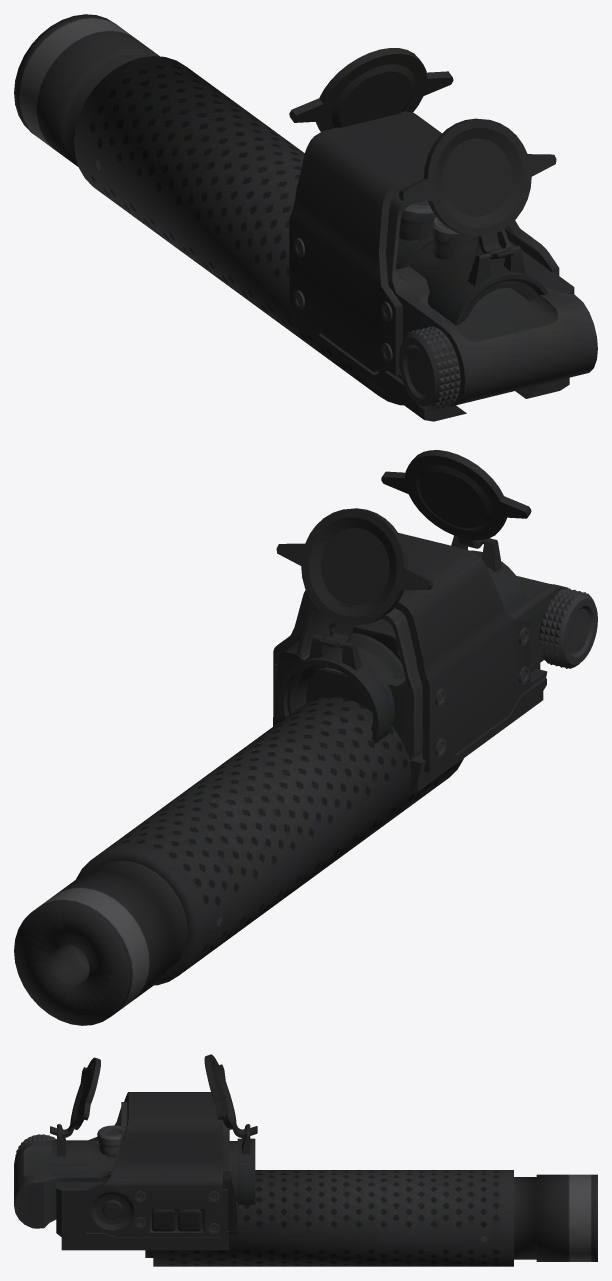
File: akm-att.glb
The picture shows the model from 3 angles, top to bottom: view 1: azimuth 30°, elevation 25°; view 2: azimuth 150°, elevation 25°; view 3: azimuth 270°, elevation 25°; orthographic projection. The views are drawn at different scales.
Visible parts, largest first — view 1: holo, ats5Sleeve, x2, ats5; view 2: ats5Sleeve, holo, x2, ats5; view 3: ats5Sleeve, holo, ats5, x2.
Part boxes in pixels (x1,y1,x2,y2): holo: (288,111,597,421); ats5Sleeve: (74,56,403,405); x2: (289,48,556,325); ats5: (14,14,159,166); ats5Sleeve: (76,696,463,985); holo: (273,533,597,793); x2: (276,450,531,743); ats5: (14,860,187,1025); ats5Sleeve: (153,1170,513,1266); holo: (14,1092,236,1250); ats5: (145,1174,597,1261); x2: (50,1054,257,1204).
Bounding box in the file's own units: 0.0577 × 0.0979 × 0.254.
7 materials, 7 textured.
